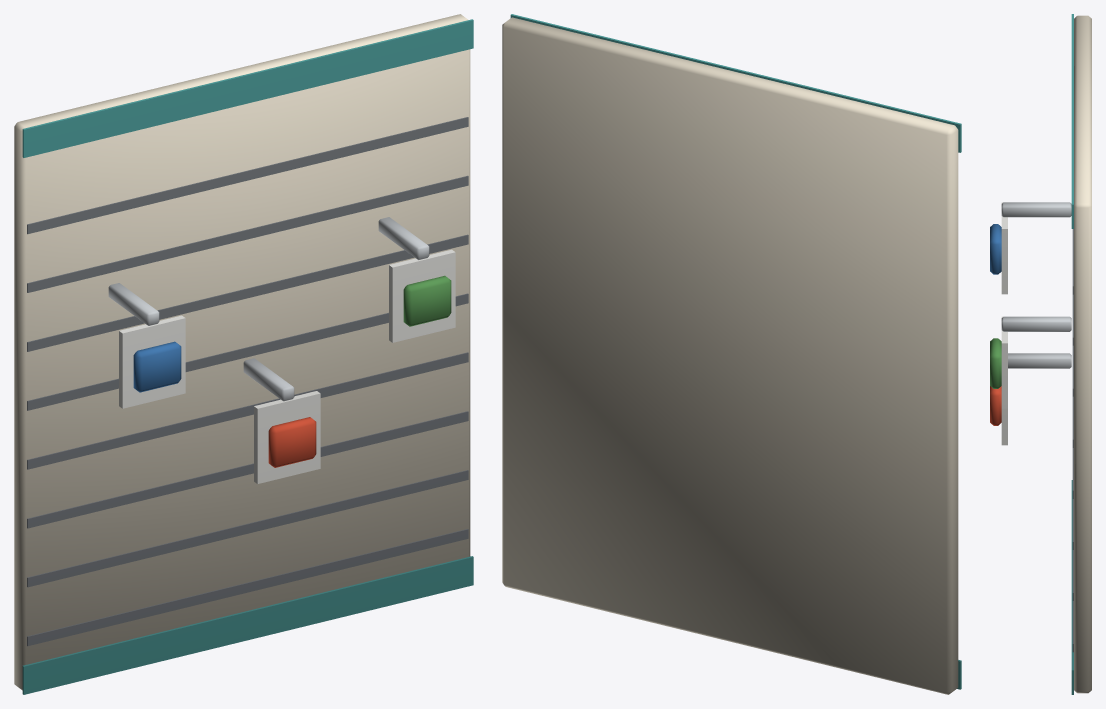
Rendered from Slatwall_Panel_10.glb.
The picture shows the model from 3 angles, left to right: view 1: azimuth 30°, elevation 25°; view 2: azimuth 150°, elevation 25°; view 3: azimuth 270°, elevation 25°; orthographic projection. The views are drawn at different scales.
Visible parts, largest first — view 1: SM_Slatwall_Panel_10; view 2: SM_Slatwall_Panel_10; view 3: SM_Slatwall_Panel_10.
Part boxes in pixels (x1=…): SM_Slatwall_Panel_10: x1=14, y1=14, x2=473, y2=694; SM_Slatwall_Panel_10: x1=502, y1=14, x2=961, y2=694; SM_Slatwall_Panel_10: x1=990, y1=14, x2=1091, y2=694.
Bounding box in the file's own units: 1 × 1.2 × 0.226.
1 material, 1 textured.
